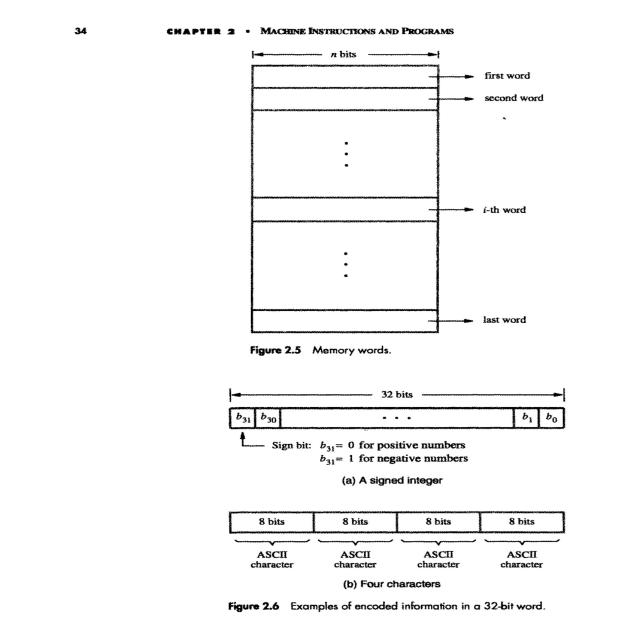diagram: (199, 40, 576, 629)
